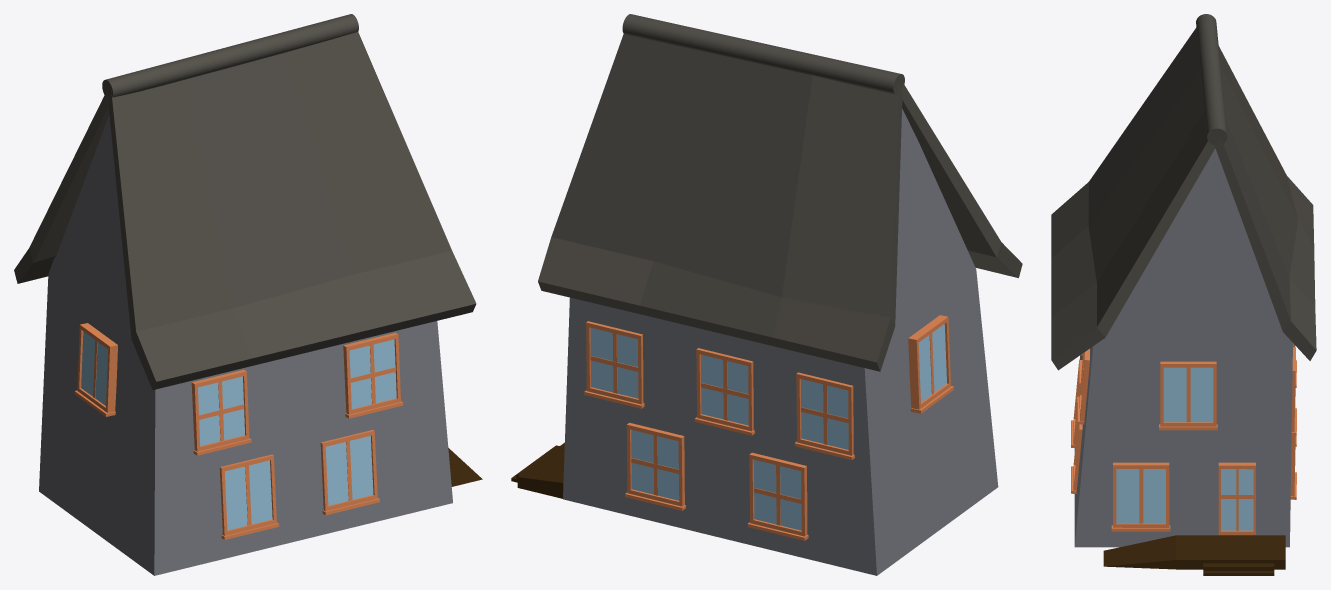
File: Gothic House.fbx
3 renders of one model, left to right at view 1: azimuth 30°, elevation 25°; view 2: azimuth 150°, elevation 25°; view 3: azimuth 270°, elevation 25°, orthographic. The views are drawn at different scales.
Visible parts, largest first — view 1: NewHouse; view 2: NewHouse; view 3: NewHouse.
Part boxes in pixels (box(x1,y1,x2,y2)): NewHouse: box(14, 14, 482, 575); NewHouse: box(511, 14, 1022, 575); NewHouse: box(1051, 14, 1316, 575).
Bounding box in the file's own units: 825 × 943 × 552.
